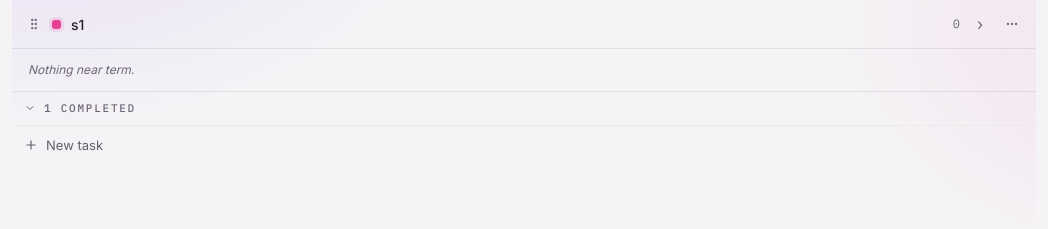
SubcategorySection horizon filter (chunk 76) › says "Nothing near term." when every open row is long, and the completed expander still works
Expected: the text "Nothing near term." is shown, 12,48 -> 1036,91
Step 1. Click the button "1 completed" → (90, 108), box 12,91 -> 1036,124
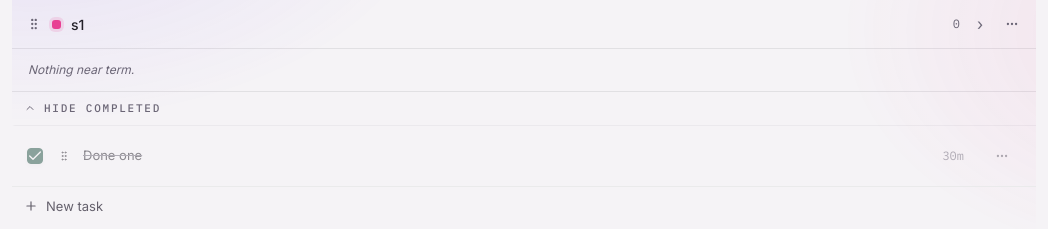
Expected: the text "Done one" is shown, 83,147 -> 142,163
